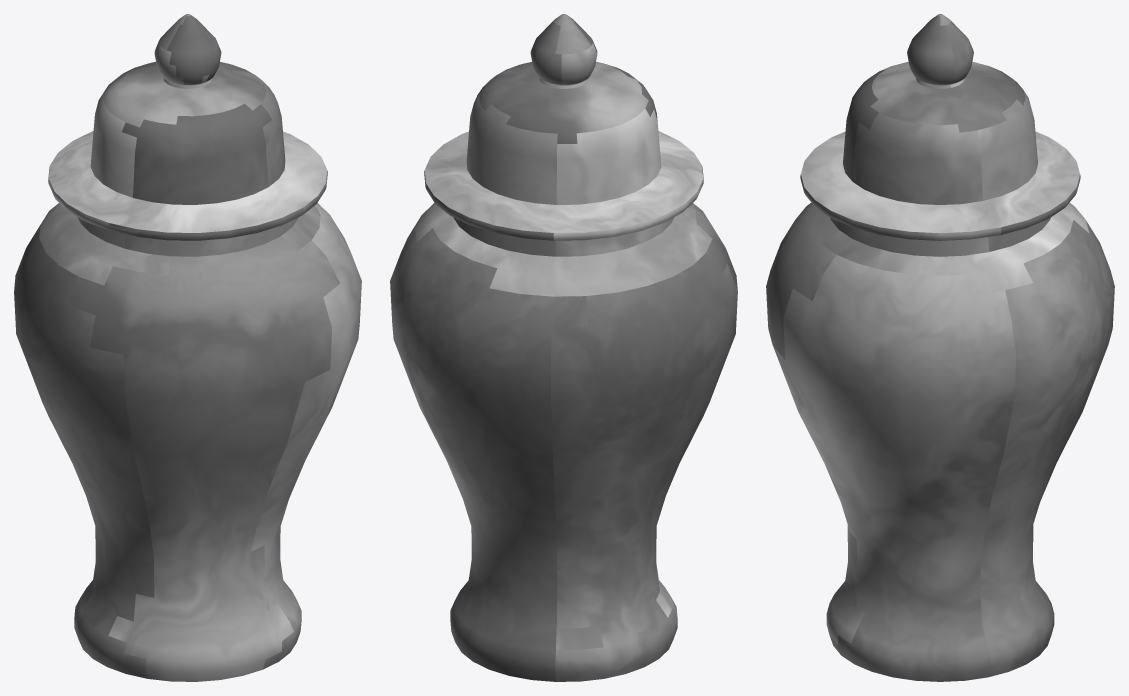
File: SM_vase_02.fbx
3 renders of one model, left to right at view 1: azimuth 30°, elevation 25°; view 2: azimuth 150°, elevation 25°; view 3: azimuth 270°, elevation 25°, orthographic.
Visible parts, largest first — view 1: SM_vase_02; view 2: SM_vase_02; view 3: SM_vase_02.
Boxes of the visible parts, x1,y1,x2,y2 form: SM_vase_02: [14, 14, 361, 681]; SM_vase_02: [390, 14, 737, 681]; SM_vase_02: [766, 14, 1114, 681].
Size of the model in its own units: 47.37 by 47.37 by 93.04.
Materials: 1 (1 with a texture image).
